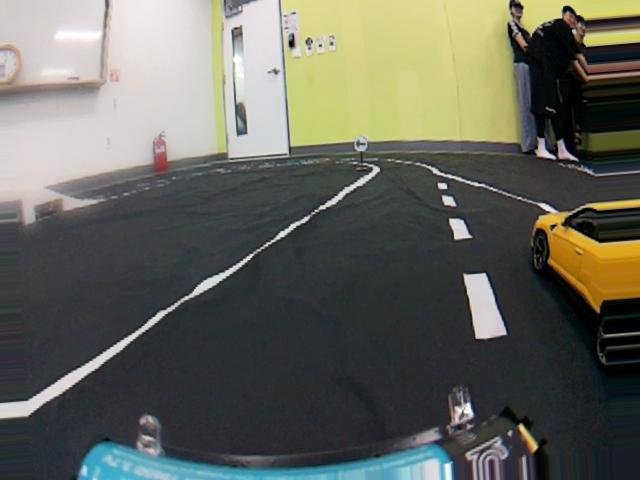car: (538, 191, 640, 379)
straight: (3, 186, 533, 475)
